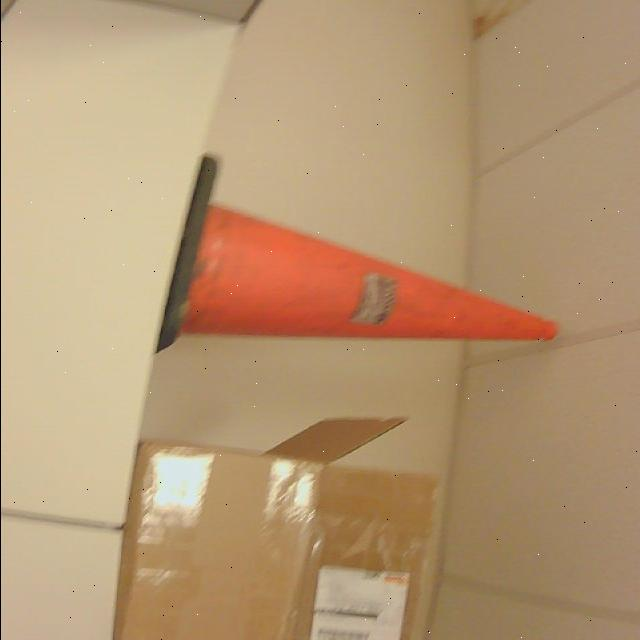traffic cone: (156, 156, 558, 351)
